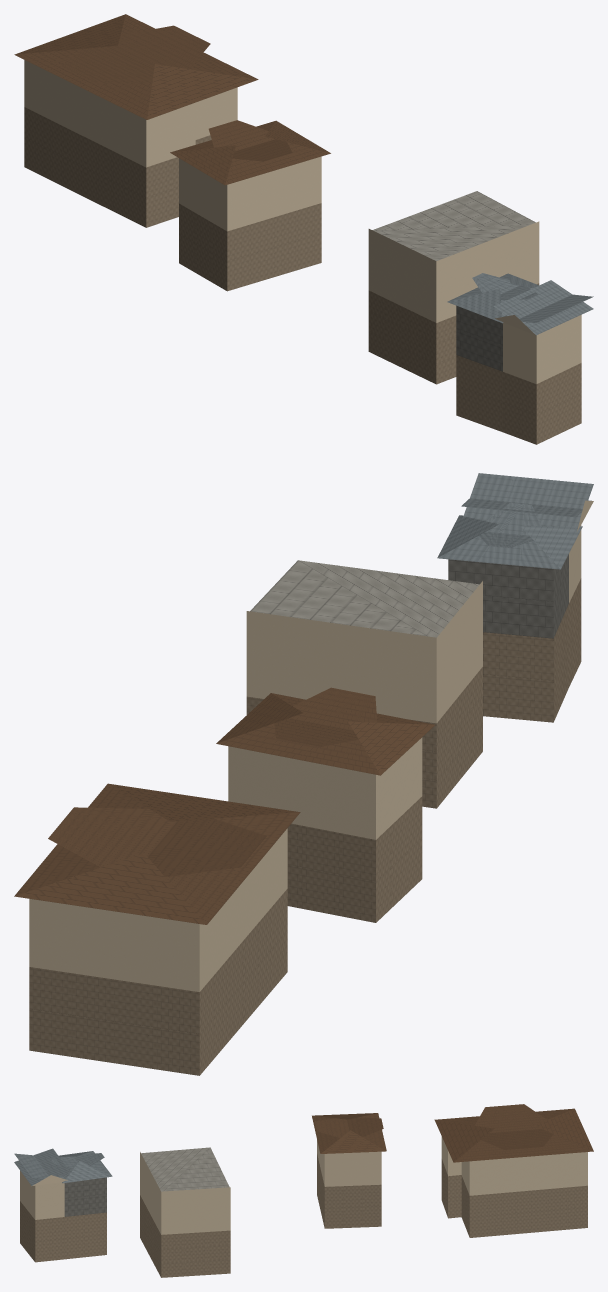
File: bld_c32_47_245.gltf
3 renders of one model, top to bottom at view 1: azimuth 30°, elevation 25°; view 2: azimuth 150°, elevation 25°; view 3: azimuth 270°, elevation 25°, orthographic. The views are drawn at different scales.
Parts seen in each view (by area): view 1: bld_c32_47_245; view 2: bld_c32_47_245; view 3: bld_c32_47_245.
Boxes of the visible parts, box(x1,y1,x2,y2) form: bld_c32_47_245: box(14, 14, 593, 444); bld_c32_47_245: box(14, 473, 593, 1075); bld_c32_47_245: box(14, 1104, 593, 1277).
Bounding box in the file's own units: 19.67 × 11.8 × 61.4.
Materials: 7 (7 with a texture image).
